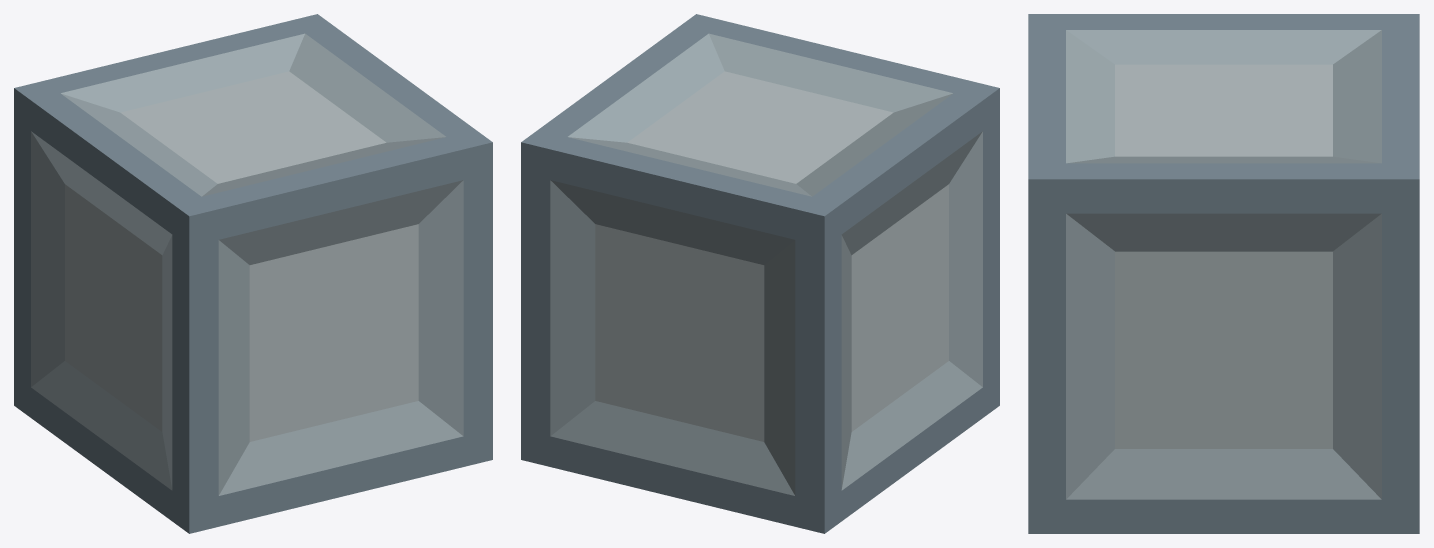
File: CubeBlank.fbx
3 views of the same model, side by side, from view 1: azimuth 30°, elevation 25°; view 2: azimuth 150°, elevation 25°; view 3: azimuth 270°, elevation 25° (orthographic). The views are drawn at different scales.
Visible parts, largest first — view 1: Cube.001; view 2: Cube.001; view 3: Cube.001.
Boxes of the visible parts, left/top/right/bottom form: Cube.001: left=14, top=14, right=492, bottom=533; Cube.001: left=521, top=14, right=999, bottom=533; Cube.001: left=1028, top=14, right=1419, bottom=533.
Bounding box in the file's own units: 109 × 109 × 109.
